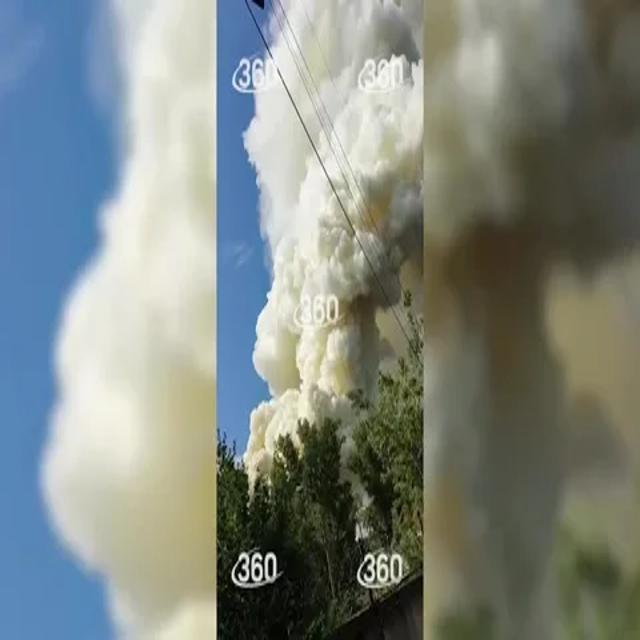Smoke: (242, 0, 422, 478)
